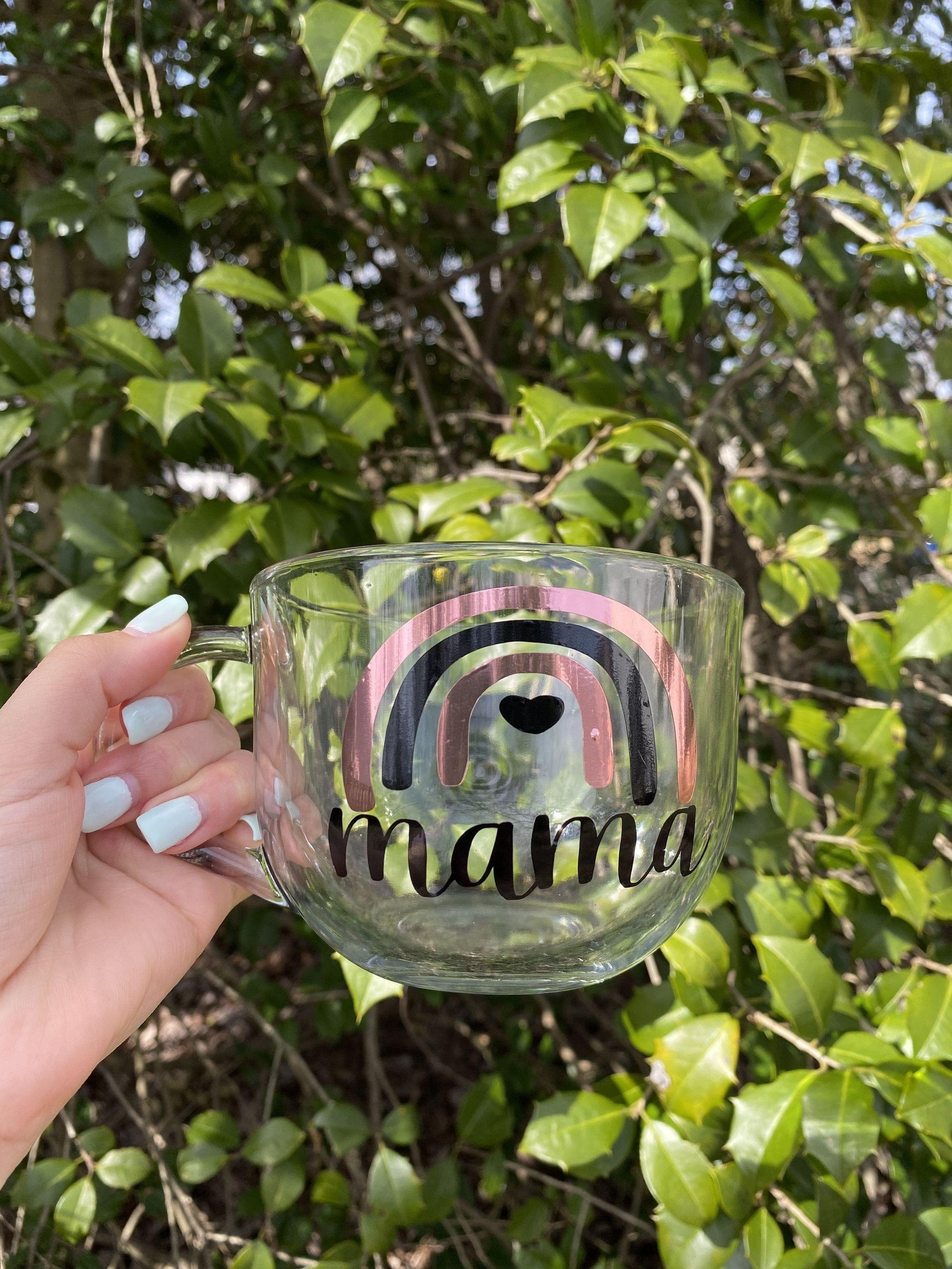glass-mug: (108, 520, 759, 1011)
